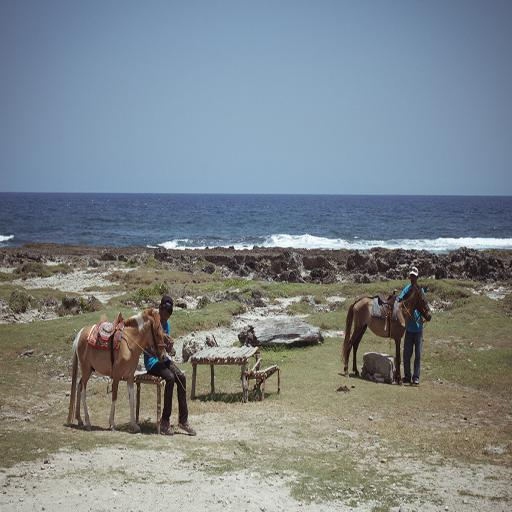horse: (66, 311, 172, 430), (342, 282, 434, 386)
